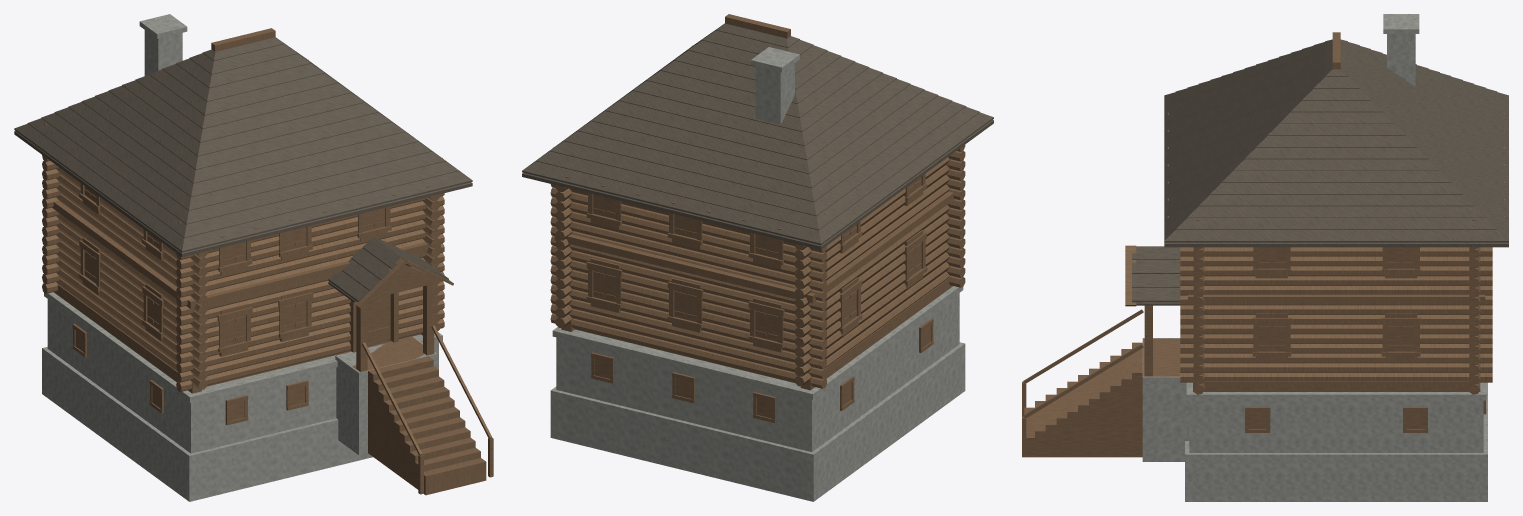
3 views of the same model, side by side, from view 1: azimuth 30°, elevation 25°; view 2: azimuth 150°, elevation 25°; view 3: azimuth 270°, elevation 25° (orthographic). The views are drawn at different scales.
Parts seen in each view (by area): view 1: T4_roof, T4_shell, T4_foundation, T4_frame, T4_entry_step, T4_shutter, T4_porch.001, T4_chimney, T4_railing, T4_porch, T4_entry_leaf0, T4_floor; view 2: T4_roof, T4_foundation, T4_shell, T4_frame, T4_shutter, T4_chimney, T4_floor; view 3: T4_roof, T4_shell, T4_foundation, T4_entry_step, T4_frame, T4_shutter, T4_chimney, T4_railing, T4_porch, T4_porch.001, T4_floor.
Part boxes in pixels (left/top/right/bottom): T4_roof: left=14, top=37, right=472, bottom=302; T4_shell: left=42, top=59, right=444, bottom=393; T4_foundation: left=42, top=292, right=442, bottom=501; T4_frame: left=52, top=28, right=440, bottom=425; T4_entry_step: left=368, top=356, right=486, bottom=495; T4_shutter: left=75, top=186, right=385, bottom=420; T4_porch.001: left=354, top=257, right=453, bottom=371; T4_chimney: left=139, top=14, right=187, bottom=75; T4_railing: left=362, top=325, right=493, bottom=494; T4_porch: left=336, top=336, right=424, bottom=372; T4_entry_leaf0: left=367, top=294, right=390, bottom=345; T4_floor: left=56, top=291, right=421, bottom=390; T4_roof: left=522, top=23, right=993, bottom=249; T4_foundation: left=550, top=286, right=965, bottom=501; T4_shell: left=550, top=45, right=965, bottom=390; T4_frame: left=554, top=14, right=954, bottom=422; T4_shutter: left=593, top=176, right=930, bottom=418; T4_chimney: left=751, top=47, right=799, bottom=124; T4_floor: left=575, top=311, right=915, bottom=387; T4_roof: left=1132, top=39, right=1508, bottom=305; T4_shell: left=1180, top=219, right=1492, bottom=394; T4_foundation: left=1142, top=338, right=1487, bottom=501; T4_entry_step: left=1024, top=342, right=1142, bottom=457; T4_frame: left=1167, top=32, right=1505, bottom=432; T4_shutter: left=1248, top=247, right=1424, bottom=428; T4_chimney: left=1383, top=14, right=1419, bottom=86; T4_railing: left=1022, top=309, right=1143, bottom=457; T4_porch: left=1143, top=338, right=1180, bottom=376; T4_porch.001: left=1125, top=245, right=1152, bottom=376; T4_floor: left=1203, top=388, right=1469, bottom=391.
Bounding box in the file's own units: 9.6 × 12.05 × 13.56.
Materials: 4 (3 with a texture image).
